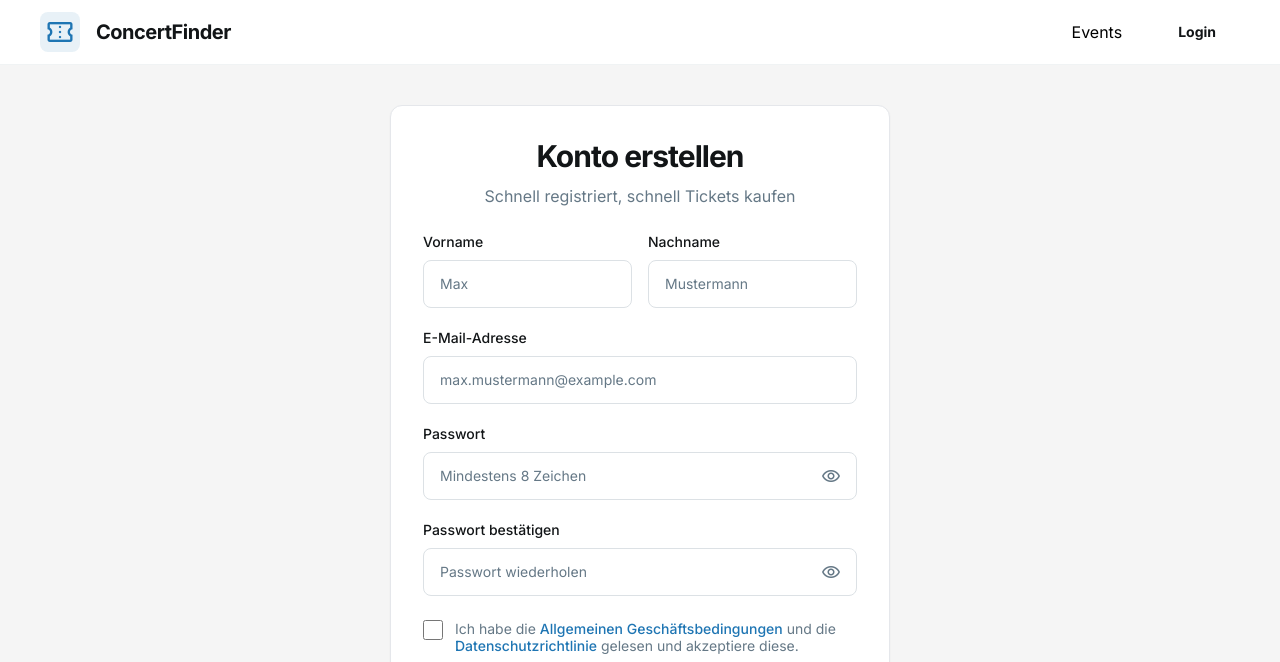
Scenario: Register Flow Integration Test › should show password strength indicator
// Weak password
Type "weak" into the password field with placeholder "Mindestens 8 Zeichen" at (640, 476), box [423, 452, 857, 500]
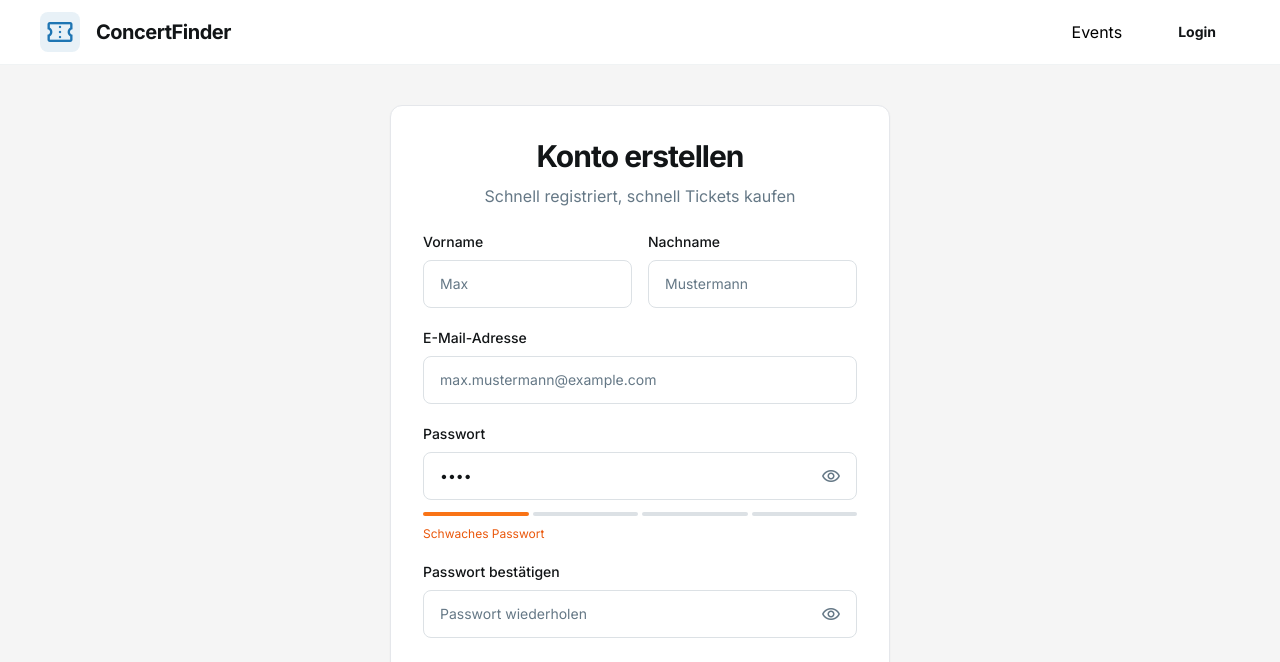
Expected: the text "Schwaches Passwort" is shown, [423, 526, 544, 540]
// Strong password
Type "StrongP@ssw0rd123!" into the password field with placeholder "Mindestens 8 Zeichen" at (640, 476), box [423, 452, 857, 500]
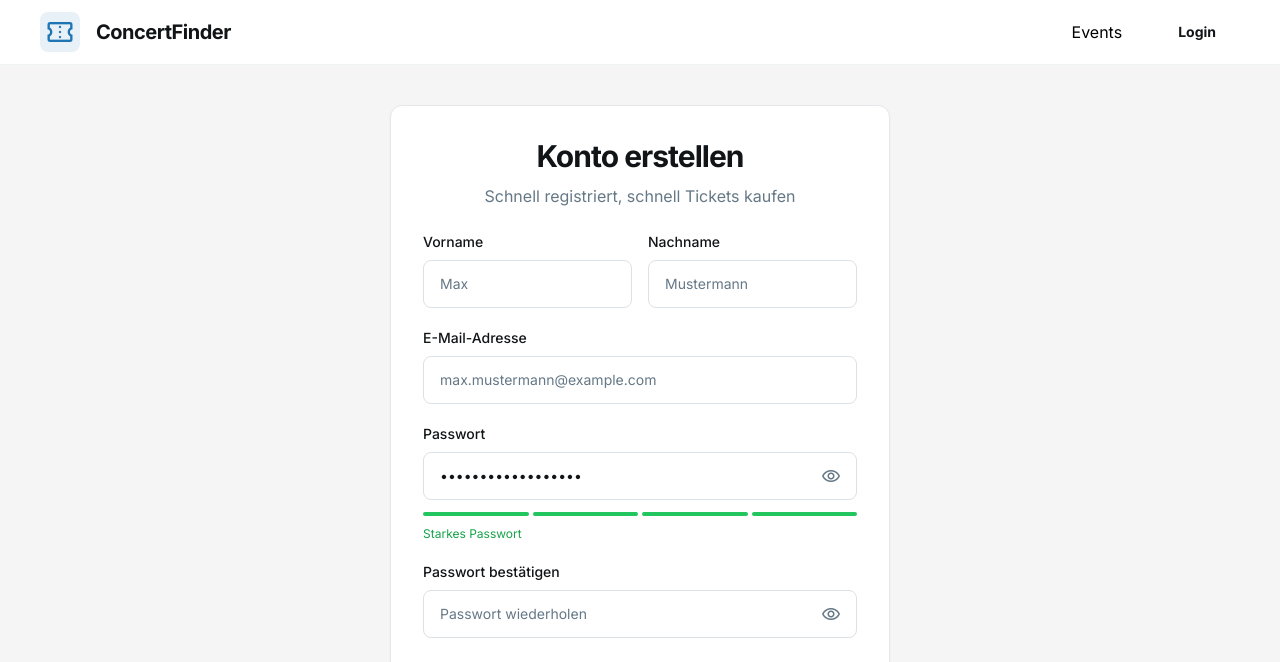
Expected: the text "Starkes Passwort" is shown, [423, 526, 522, 540]
